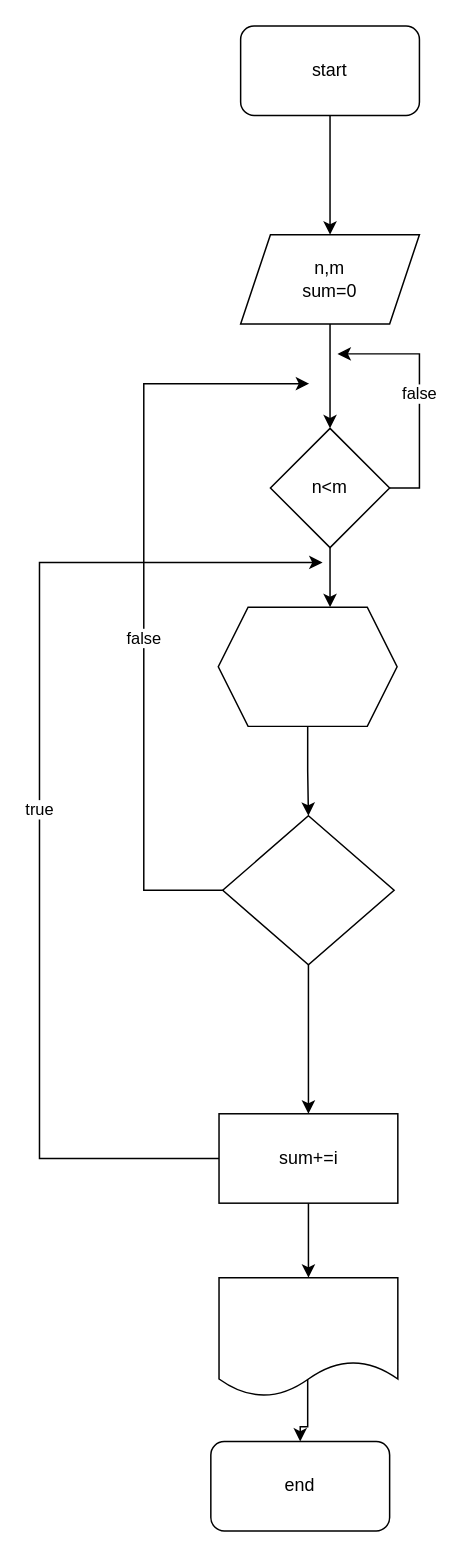
The diagram is 462 pixels wide and 1557 high, and some of its shapes have lost their labels. The centre of each missing label's shape, as x and y in pixels:
"i%2!==0" goes at (307,889).
"i=n+1&&i<m;i++" goes at (307,666).
"sum" goes at (308,1336).
